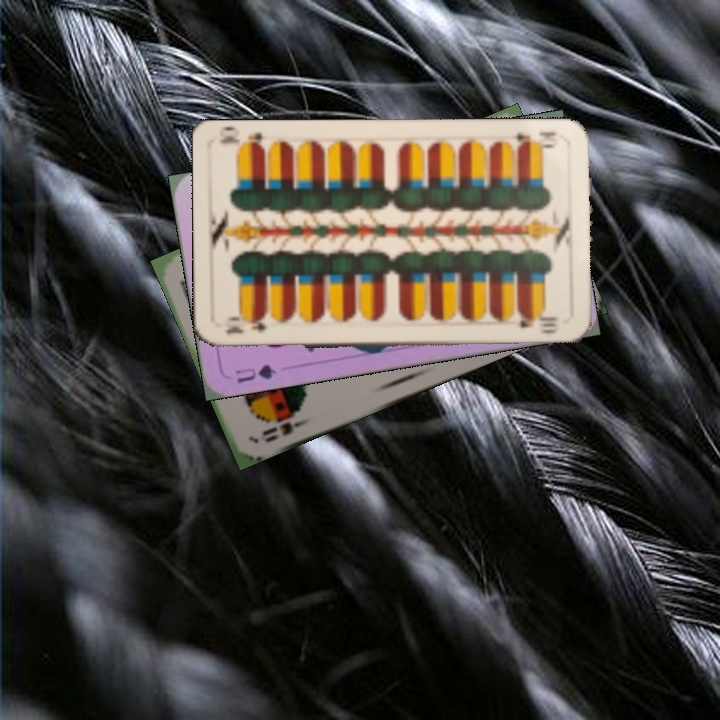E10: (507, 127, 561, 152), (221, 313, 271, 337)
GU: (231, 360, 279, 386)
SO: (257, 415, 311, 445)
